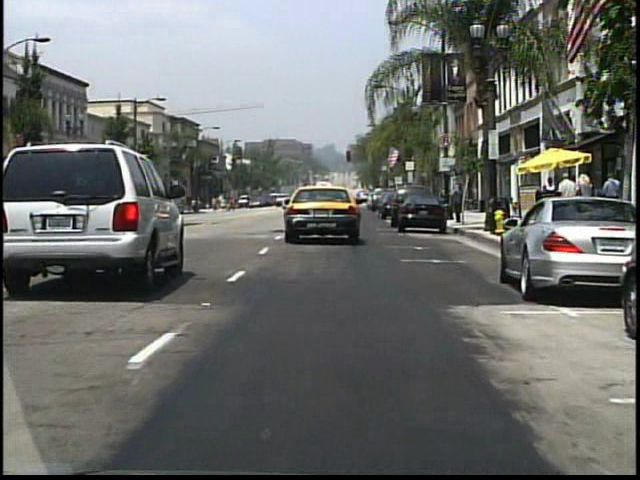person: (572, 171, 594, 225), (599, 170, 620, 226), (557, 171, 577, 225), (538, 175, 558, 224), (246, 193, 253, 208)
